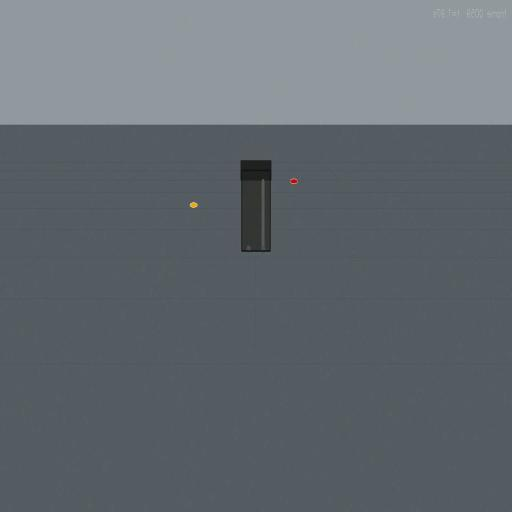bin: (240, 158, 272, 253)
